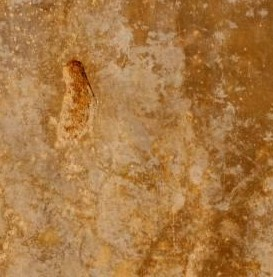Corrosion: (62, 59, 89, 131)
Spalling: (55, 59, 94, 151)
